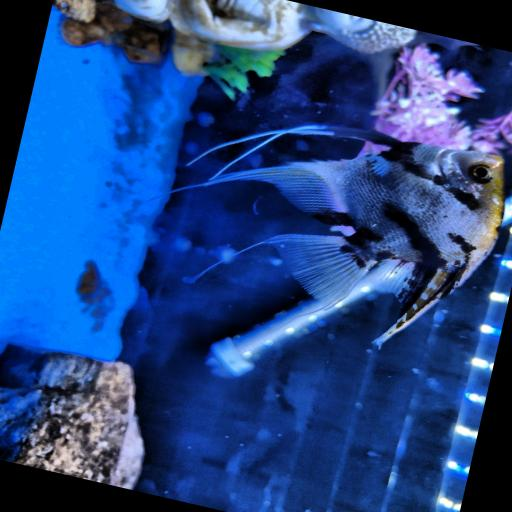Fish: (202, 125, 503, 344)
